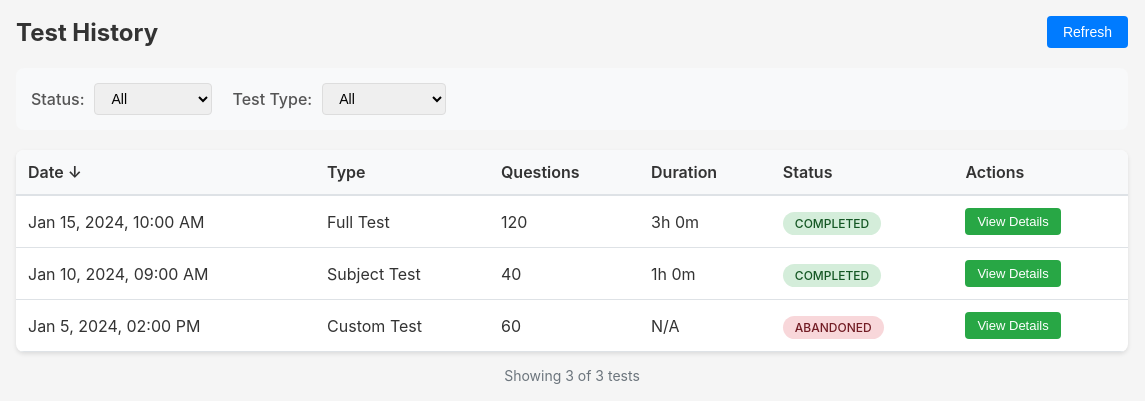
Test: TestHistoryList › should filter by status
This screenshot has width=1145, height=401.
Check: the text "Showing 3 of 3 tests" is shown, box [504, 367, 640, 384]
// Filter by completed
Select "Completed" in the dropdown labelled "Status:" at coordinates (154, 99), box [94, 83, 212, 115]
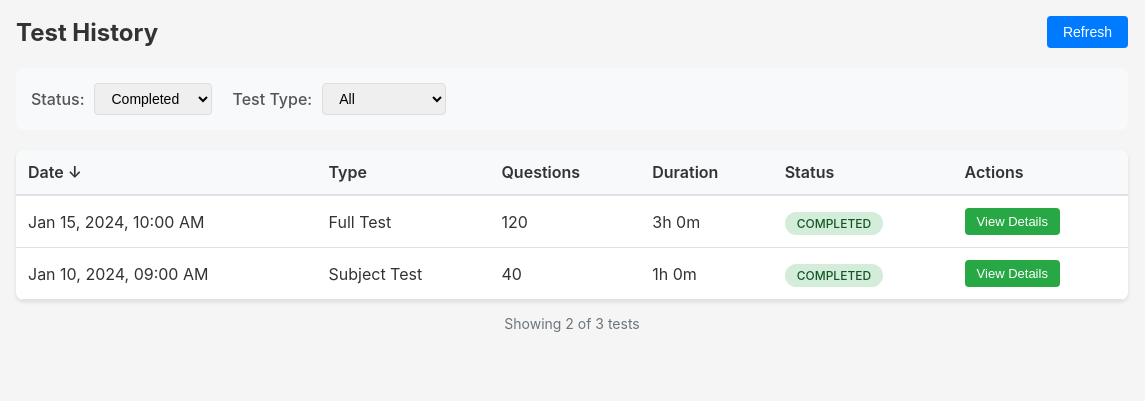
Check: the text "Showing 2 of 3 tests" is shown, box [504, 315, 640, 332]
